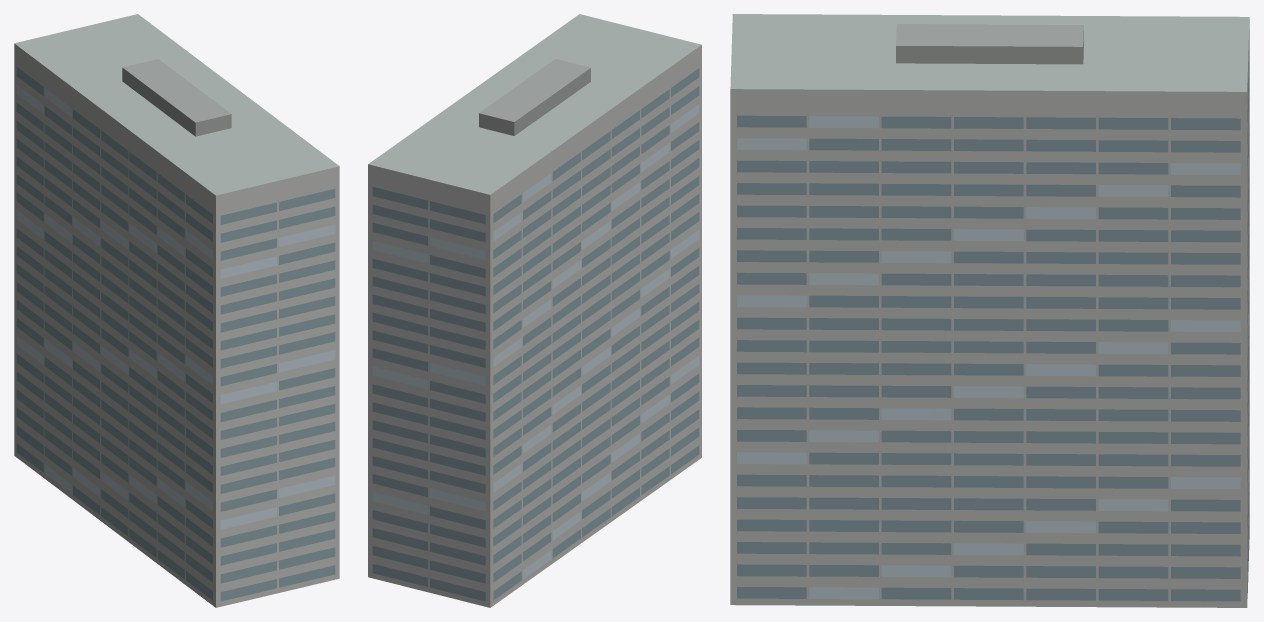
File: apt-a13402001.glb
The picture shows the model from 3 angles, left to right: view 1: azimuth 30°, elevation 25°; view 2: azimuth 150°, elevation 25°; view 3: azimuth 270°, elevation 25°; orthographic projection. The views are drawn at different scales.
Visible parts, largest first — view 1: apt-a13402001; view 2: apt-a13402001; view 3: apt-a13402001.
Part boxes in pixels (x1,y1,x2,y2): apt-a13402001: [14, 14, 339, 607]; apt-a13402001: [368, 14, 701, 607]; apt-a13402001: [730, 14, 1249, 607].
Size of the model in its own units: 22.94 by 73 by 64.43.
